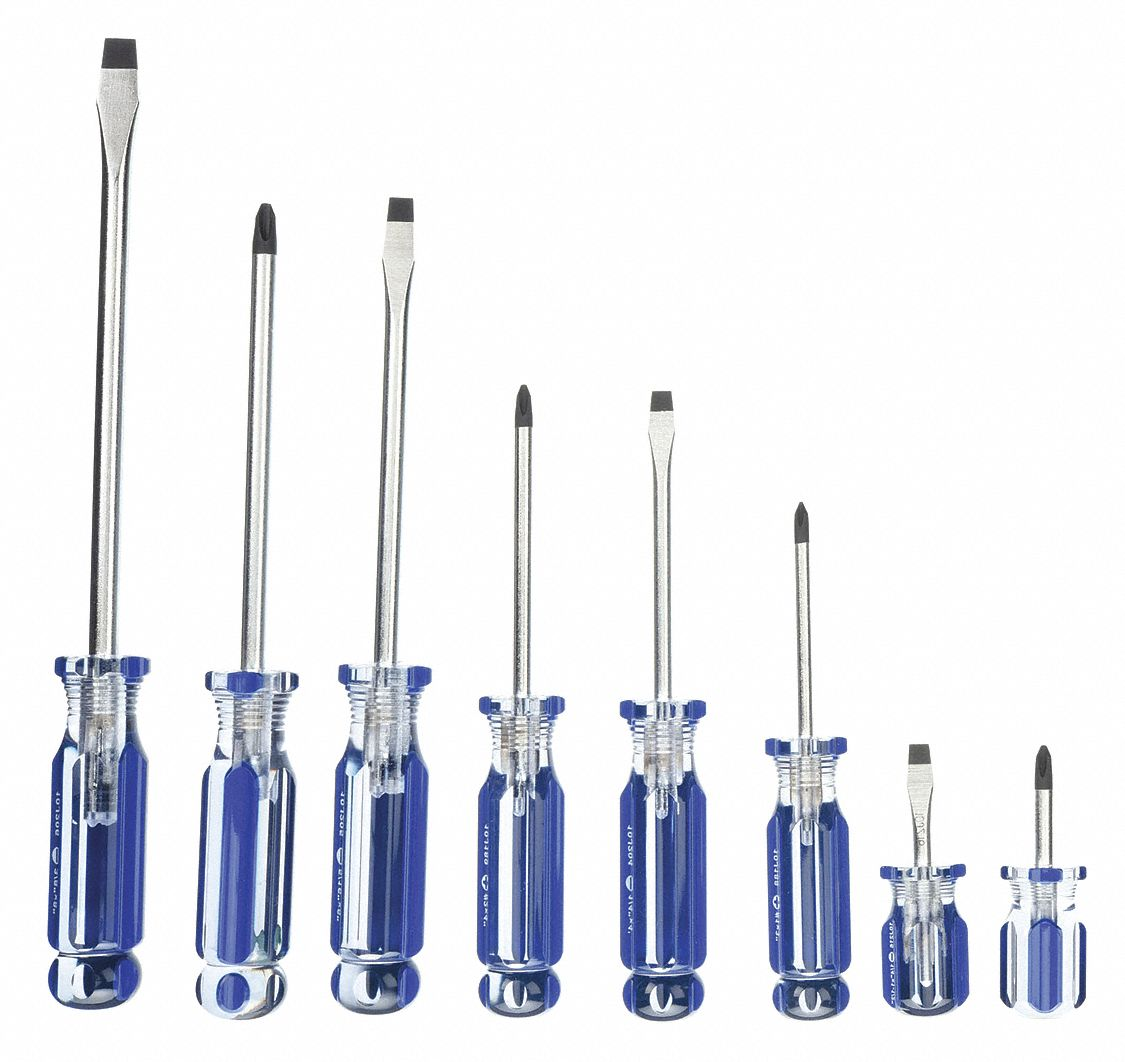screwdriver: (46, 33, 150, 1012), (192, 196, 299, 1026), (328, 187, 423, 1017), (606, 389, 708, 1023), (473, 377, 571, 1022), (762, 501, 856, 1022), (984, 742, 1092, 1017), (877, 741, 973, 1017)
